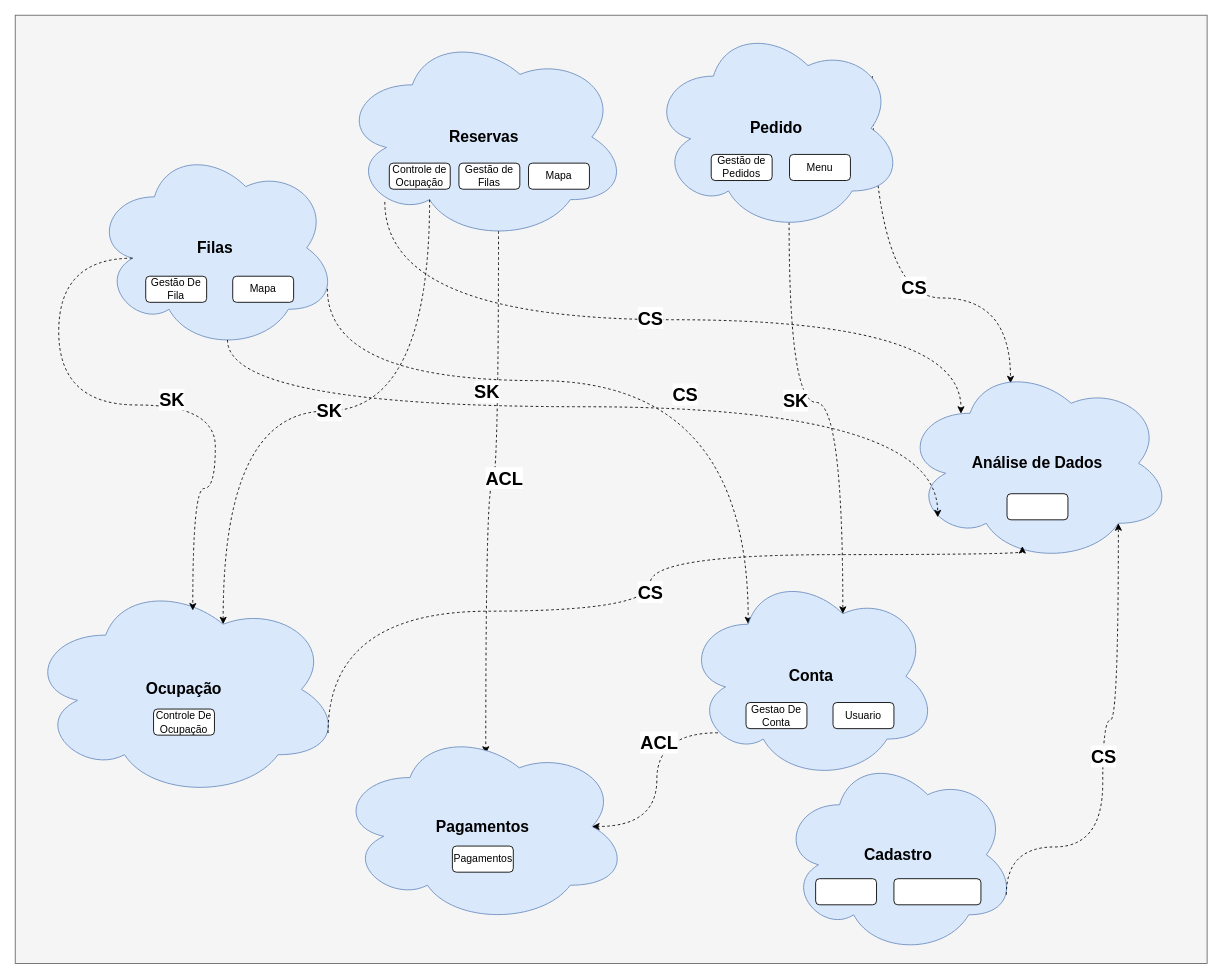
The diagram is 1222 pixels wide and 979 high, and some of its shapes have lost their labels. The centre of each missing label's shape, as x and y in pixels:
"Analise De Dados" belongs at point 1037,506.
"Cadastro de estabelecimento" belongs at point 937,891.
"Cadastro de Usuário" belongs at point 846,891.
